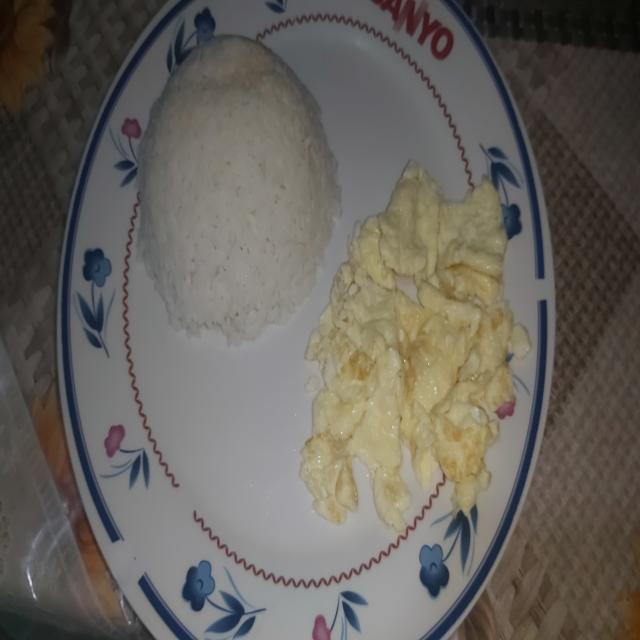Chicken -Chicken Inasal-: (138, 37, 334, 327)
